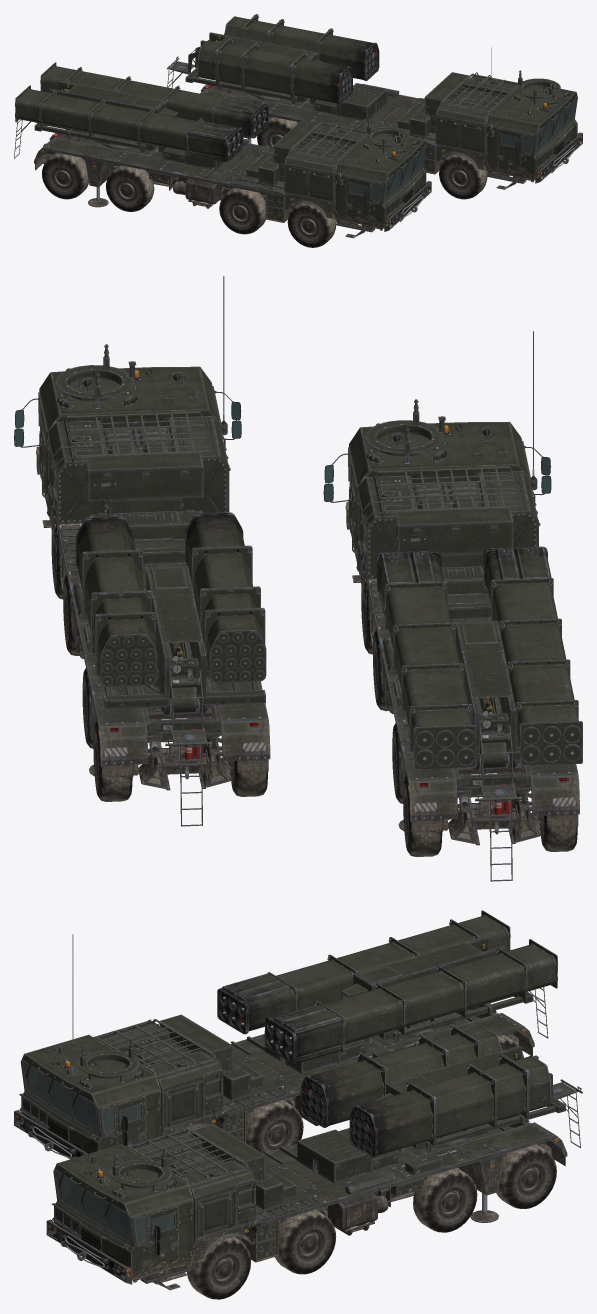
The model's file is 9k512_uragan-1m_all_versions__broken_arrow.glb.
3 renders of one model, top to bottom at view 1: azimuth 30°, elevation 25°; view 2: azimuth 150°, elevation 25°; view 3: azimuth 270°, elevation 25°, orthographic. The views are drawn at different scales.
Visible parts, largest first — view 1: Object_2, Object_4, Object_6, Object_7, Object_3, Object_8, Object_5; view 2: Object_4, Object_2, Object_6, Object_7, Object_5, Object_3; view 3: Object_4, Object_2, Object_6, Object_7, Object_3, Object_8, Object_5.
Part boxes in pixels (x1,y1,x2,y2): Object_2: (34,96,431,247); Object_4: (200,47,582,199); Object_6: (14,62,268,162); Object_7: (167,14,379,104); Object_3: (34,81,177,152); Object_8: (350,98,576,202); Object_5: (185,32,322,104); Object_4: (14,276,270,801); Object_2: (323,331,579,856); Object_6: (377,546,582,881); Object_7: (75,512,266,826); Object_5: (88,564,265,716); Object_3: (398,620,519,771); Object_4: (46,1043,567,1299); Object_2: (14,934,534,1159); Object_6: (217,910,558,1063); Object_7: (300,1025,582,1157); Object_3: (341,936,533,1042); Object_8: (23,1062,173,1244); Object_5: (375,1045,565,1152).
Bounding box in the file's own units: 15.78 × 5.54 × 12.88.
3 materials, 2 textured.
